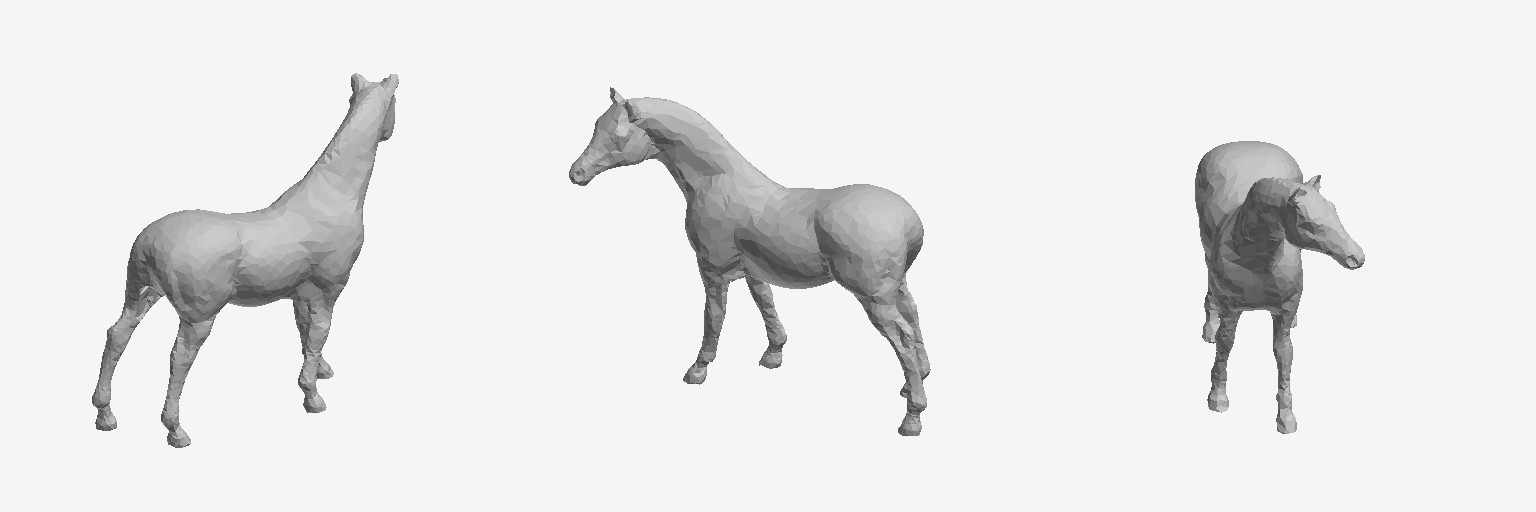
The model's file is horse_normals_uv.obj.
3 renders of one model, left to right at view 1: azimuth 30°, elevation 25°; view 2: azimuth 150°, elevation 25°; view 3: azimuth 270°, elevation 25°, orthographic.
Parts seen in each view (by area): view 1: horsesmall; view 2: horsesmall; view 3: horsesmall.
Boxes of the visible parts, x1=… form: horsesmall: x1=92, y1=73, x2=398, y2=447; horsesmall: x1=569, y1=87, x2=930, y2=435; horsesmall: x1=1195, y1=141, x2=1364, y2=433.
Size of the model in its own units: 3.66 by 3.04 by 1.68.